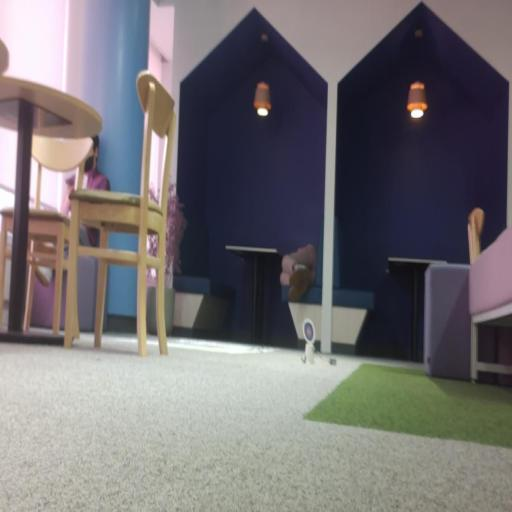target: (303, 319, 315, 347)
